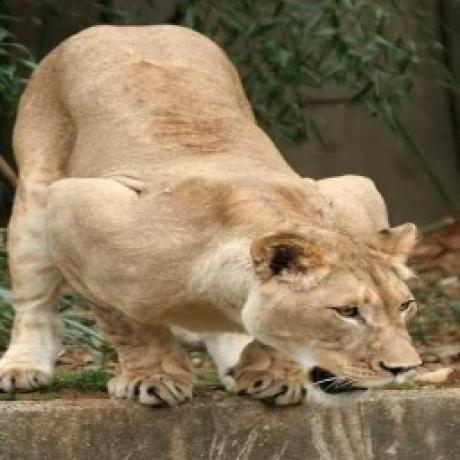Lion: (0, 20, 424, 413)
